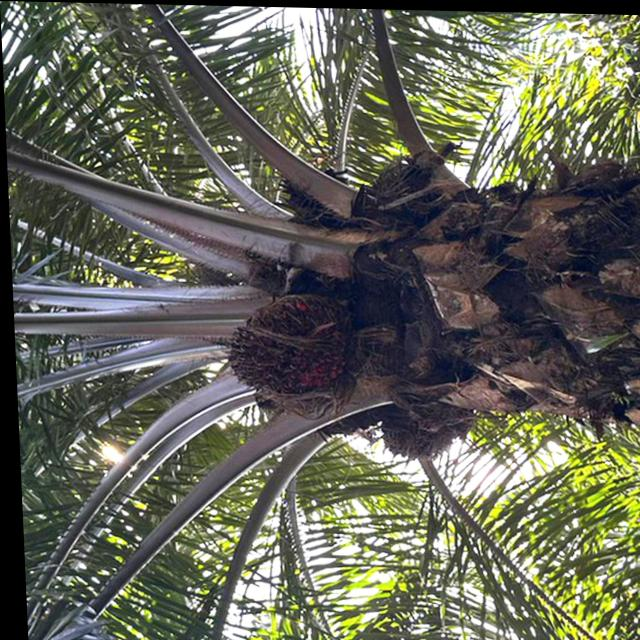ripe: (217, 287, 342, 403)
